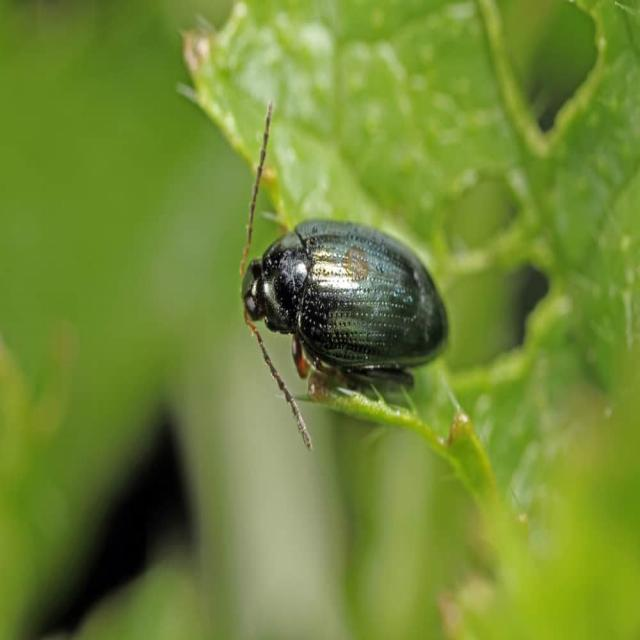flea_beetle: (226, 88, 468, 450)
